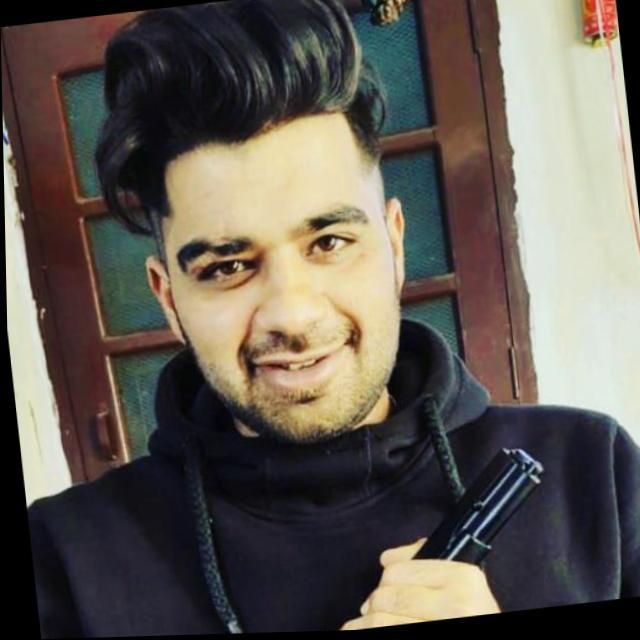weapon: (307, 434, 566, 633)
